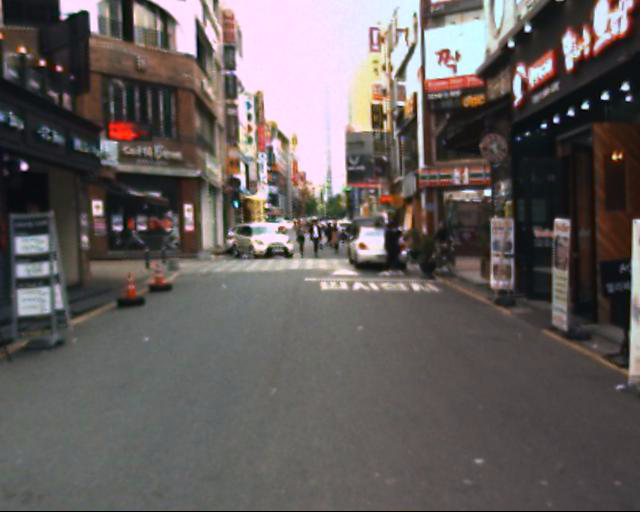person: (426, 211, 466, 278), (377, 210, 409, 274), (329, 207, 353, 264), (291, 204, 311, 266), (308, 209, 328, 266)
